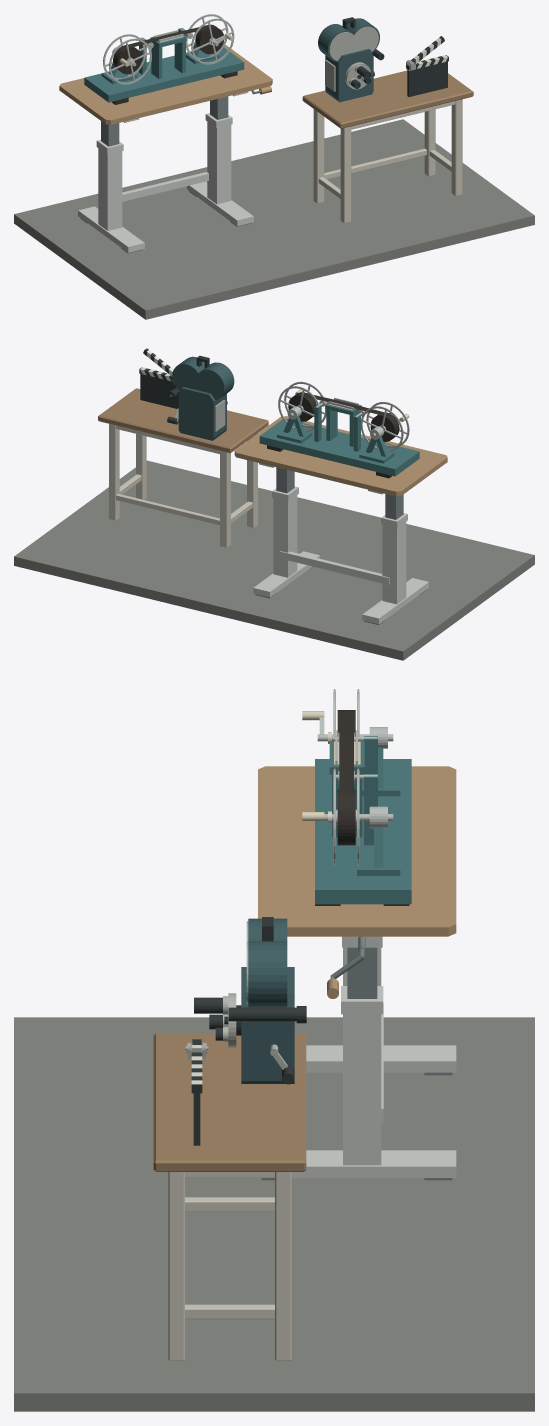
3 views of the same model, one above another, from view 1: azimuth 30°, elevation 25°; view 2: azimuth 150°, elevation 25°; view 3: azimuth 270°, elevation 25° (orthographic). The views are drawn at different scales.
Parts seen in each view (by area): view 1: SceneOnlyFilmWorkcornerFloor, WholeLevelWritingTop, Complete work surface, WholeLongCommonBenchBed, WholeOpenUpperOuterColumn_-1, WholeOpenUpperOuterColumn_1, WholeGroundFootBeveledDriveCameraBody, Worktable leg, Worktable leg.002, WholeGroundFootBlankSlate, WholeProudMagazineFrontLid, Worktable leg.001 (+11 smaller); view 2: SceneOnlyFilmWorkcornerFloor, WholeLevelWritingTop, Complete work surface, WholeLongCommonBenchBed, WholeGroundFootBeveledDriveCameraBody, WholeOpenUpperOuterColumn_-1, WholeOpenUpperOuterColumn_1, WholeConnectedTwinLobeFilmMagazine, WholeLowerRearCrossTie, Worktable leg.001, Worktable leg.003, WholeLongTGroundFoot_-1 (+10 smaller); view 3: SceneOnlyFilmWorkcornerFloor, WholeLevelWritingTop, Complete work surface, WholeLongCommonBenchBed, WholeOpenUpperOuterColumn_1, WholeLongTGroundFoot_1, WholeGroundFootBeveledDriveCameraBody, WholeConnectedTwinLobeFilmMagazine, Worktable leg.002, Worktable leg.003, WholeLongTGroundFoot_-1, WholeExtendedInnerColumn_1 (+7 smaller).
Part boxes in pixels (x1=…): SceneOnlyFilmWorkcornerFloor: x1=14, y1=119, x2=534, y2=319; WholeLevelWritingTop: x1=59, y1=45, x2=272, y2=124; Complete work surface: x1=302, y1=70, x2=473, y2=128; WholeLongCommonBenchBed: x1=84, y1=47, x2=244, y2=102; WholeOpenUpperOuterColumn_-1: x1=98, y1=148, x2=122, y2=230; WholeOpenUpperOuterColumn_1: x1=207, y1=122, x2=231, y2=204; WholeGroundFootBeveledDriveCameraBody: x1=325, y1=49, x2=373, y2=102; Worktable leg: x1=340, y1=126, x2=351, y2=223; Worktable leg.002: x1=451, y1=99, x2=462, y2=196; WholeGroundFootBlankSlate: x1=407, y1=61, x2=447, y2=96; WholeProudMagazineFrontLid: x1=329, y1=26, x2=378, y2=60; Worktable leg.001: x1=313, y1=109, x2=324, y2=203; SceneOnlyFilmWorkcornerFloor: x1=14, y1=460, x2=534, y2=660; WholeLevelWritingTop: x1=234, y1=416, x2=447, y2=496; Complete work surface: x1=98, y1=388, x2=268, y2=453; WholeLongCommonBenchBed: x1=259, y1=418, x2=419, y2=476; WholeGroundFootBeveledDriveCameraBody: x1=178, y1=387, x2=226, y2=440; WholeOpenUpperOuterColumn_-1: x1=382, y1=522, x2=406, y2=604; WholeOpenUpperOuterColumn_1: x1=273, y1=495, x2=297, y2=577; WholeConnectedTwinLobeFilmMagazine: x1=172, y1=356, x2=234, y2=400; WholeLowerRearCrossTie: x1=280, y1=551, x2=389, y2=584; Worktable leg.001: x1=220, y1=451, x2=230, y2=547; Worktable leg.003: x1=109, y1=424, x2=119, y2=520; WholeLongTGroundFoot_-1: x1=362, y1=578, x2=428, y2=624; SceneOnlyFilmWorkcornerFloor: x1=14, y1=1017, x2=534, y2=1411; WholeLevelWritingTop: x1=258, y1=766, x2=456, y2=936; Complete work surface: x1=153, y1=1033, x2=306, y2=1171; WholeLongCommonBenchBed: x1=315, y1=759, x2=411, y2=904; WholeOpenUpperOuterColumn_1: x1=343, y1=1014, x2=381, y2=1165; WholeLongTGroundFoot_1: x1=291, y1=1150, x2=456, y2=1177; WholeGroundFootBeveledDriveCameraBody: x1=241, y1=967, x2=294, y2=1083; WholeConnectedTwinLobeFilmMagazine: x1=248, y1=918, x2=287, y2=1007; Worktable leg.002: x1=168, y1=1172, x2=184, y2=1360; Worktable leg.003: x1=275, y1=1172, x2=291, y2=1360; WholeLongTGroundFoot_-1: x1=306, y1=1045, x2=456, y2=1072; WholeExtendedInnerColumn_1: x1=347, y1=947, x2=377, y2=998.
Size of the model in its own units: 3.5 by 1.76 by 2.05.
